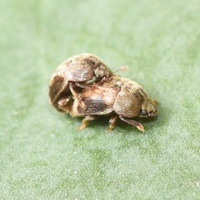insect: (49, 53, 157, 131)
